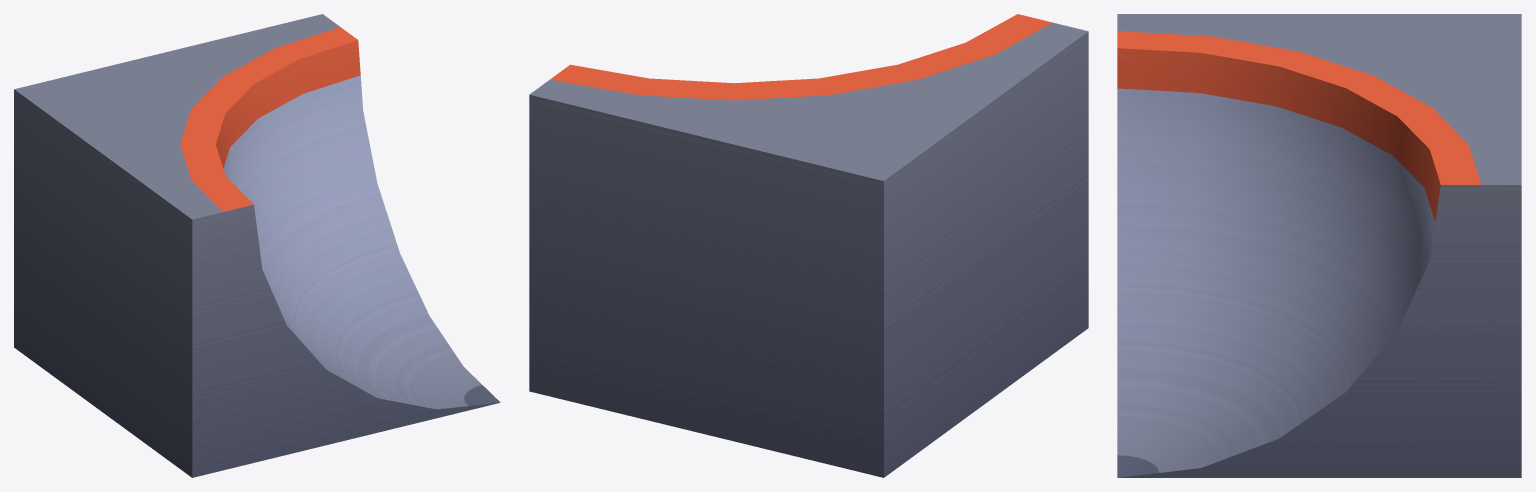
The model's file is skt-bowl-corner-inner.glb.
3 renders of one model, left to right at view 1: azimuth 30°, elevation 25°; view 2: azimuth 150°, elevation 25°; view 3: azimuth 270°, elevation 25°, orthographic. The views are drawn at different scales.
Visible parts, largest first — view 1: bowl-corner-inner; view 2: bowl-corner-inner; view 3: bowl-corner-inner.
Boxes of the visible parts, x1,y1,x2,y2 form: bowl-corner-inner: (14, 14, 500, 477); bowl-corner-inner: (529, 14, 1088, 477); bowl-corner-inner: (1117, 14, 1521, 477).
Size of the model in its own units: 1 by 0.8 by 1.
1 material, 1 textured.
